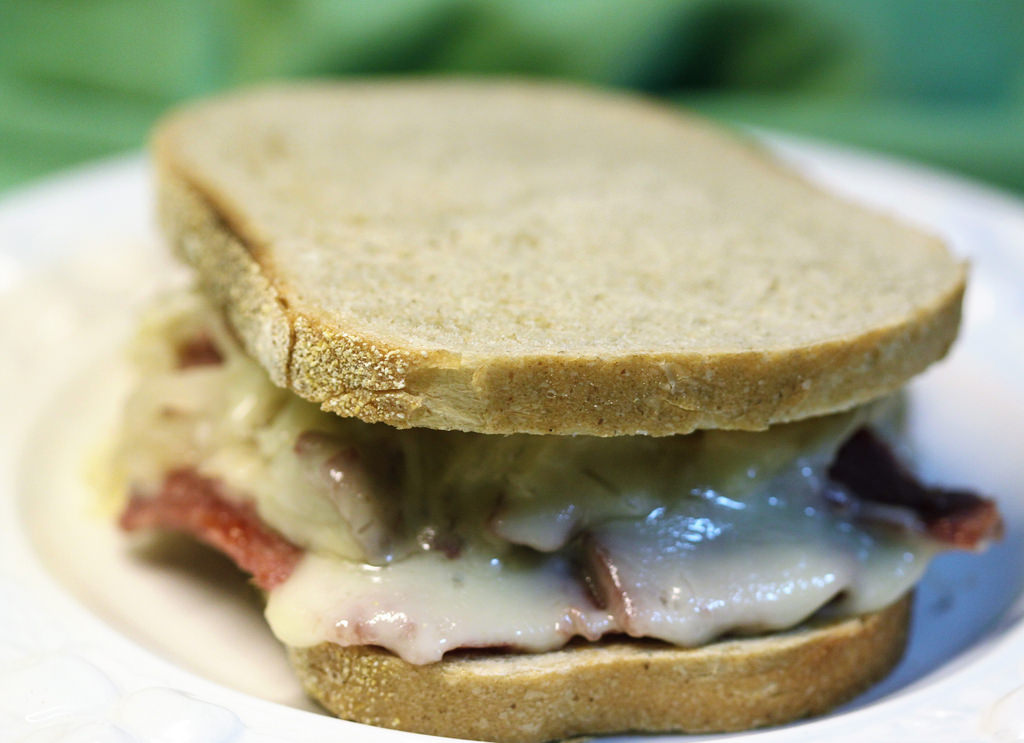slice of bread: (159, 88, 969, 413)
